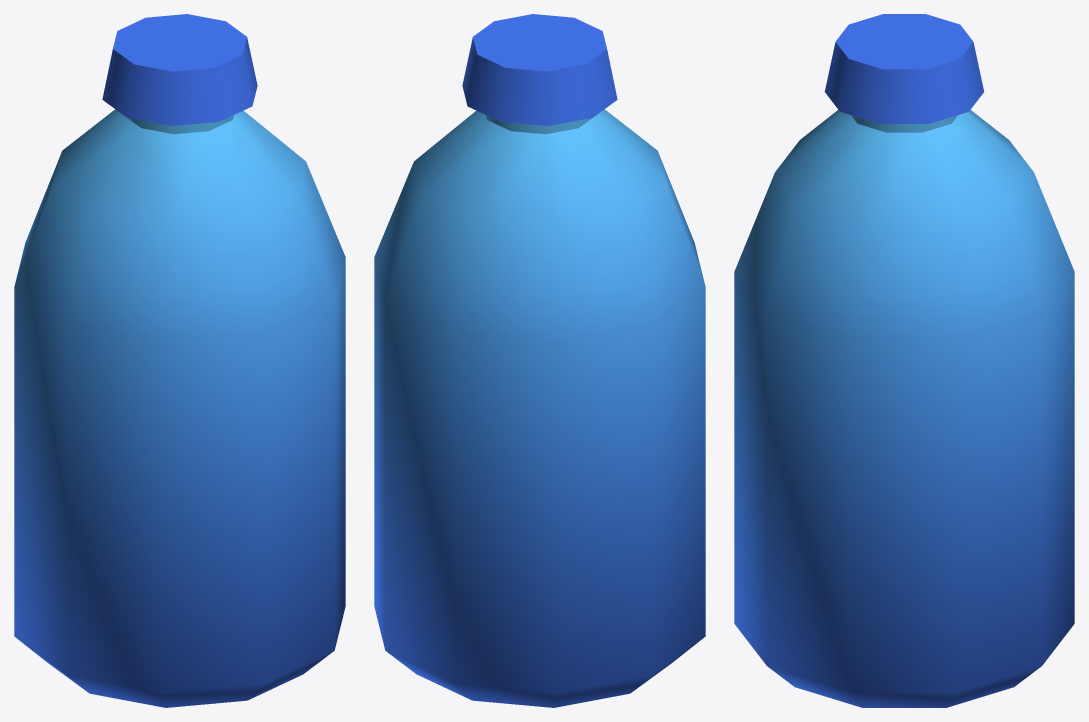
The model's file is bottle_big_water.fbx.
3 views of the same model, side by side, from view 1: azimuth 30°, elevation 25°; view 2: azimuth 150°, elevation 25°; view 3: azimuth 270°, elevation 25° (orthographic).
Visible parts, largest first — view 1: bottle_big_water; view 2: bottle_big_water; view 3: bottle_big_water.
Part boxes in pixels (bbox=[...]): bottle_big_water: bbox=[14, 14, 345, 707]; bottle_big_water: bbox=[374, 14, 705, 707]; bottle_big_water: bbox=[734, 14, 1074, 707].
Bounding box in the file's own units: 190 × 397 × 200.
